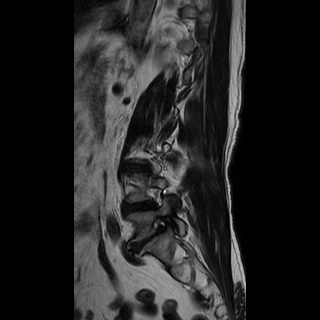LFS1: (141, 181, 165, 213)
LFS3: (144, 209, 171, 243)
